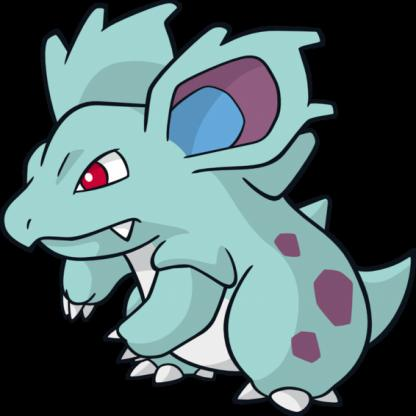Nidorina: (8, 2, 406, 414)
